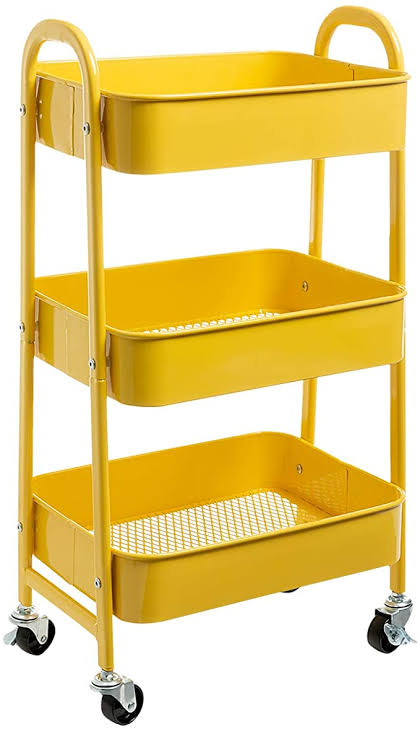Carts: (5, 12, 419, 722)
